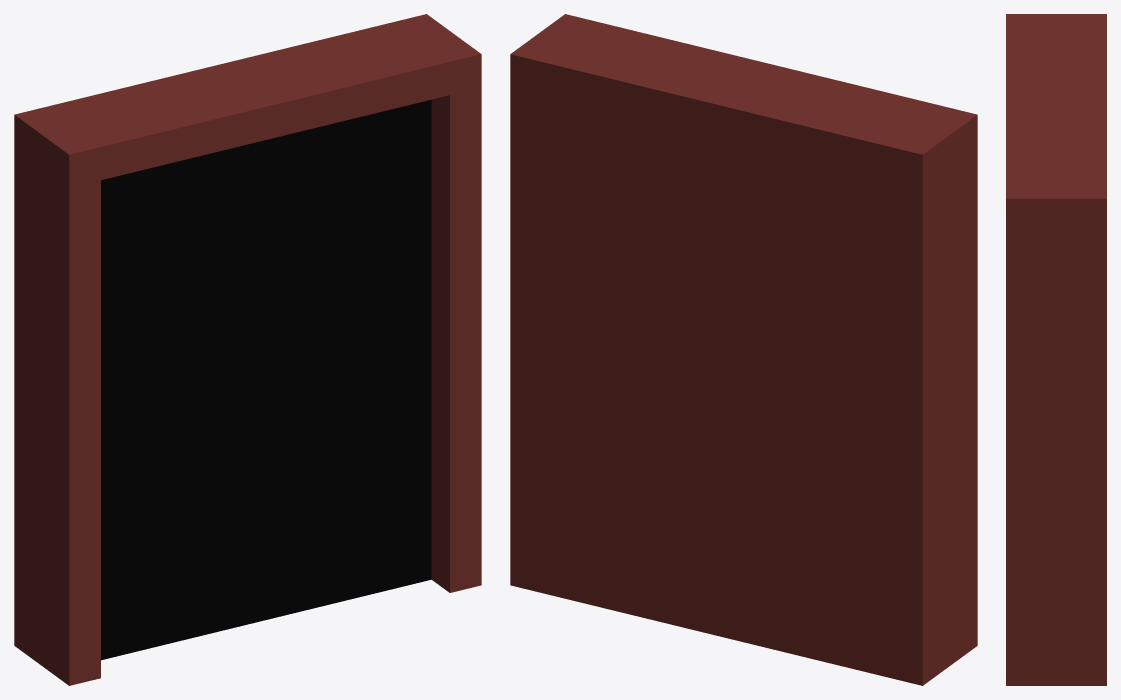
Rendered from dungeon_b_a_entrance_a.obj.
3 views of the same model, side by side, from view 1: azimuth 30°, elevation 25°; view 2: azimuth 150°, elevation 25°; view 3: azimuth 270°, elevation 25° (orthographic). The views are drawn at different scales.
Bounding box in the file's own units: 1.3 × 1.6 × 0.3.
1 material, 1 textured.
